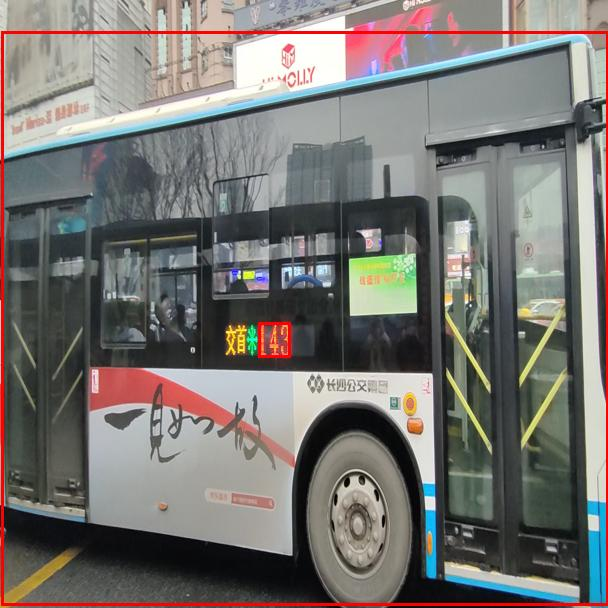bus: (1, 31, 608, 605)
screen: (258, 322, 290, 357)
